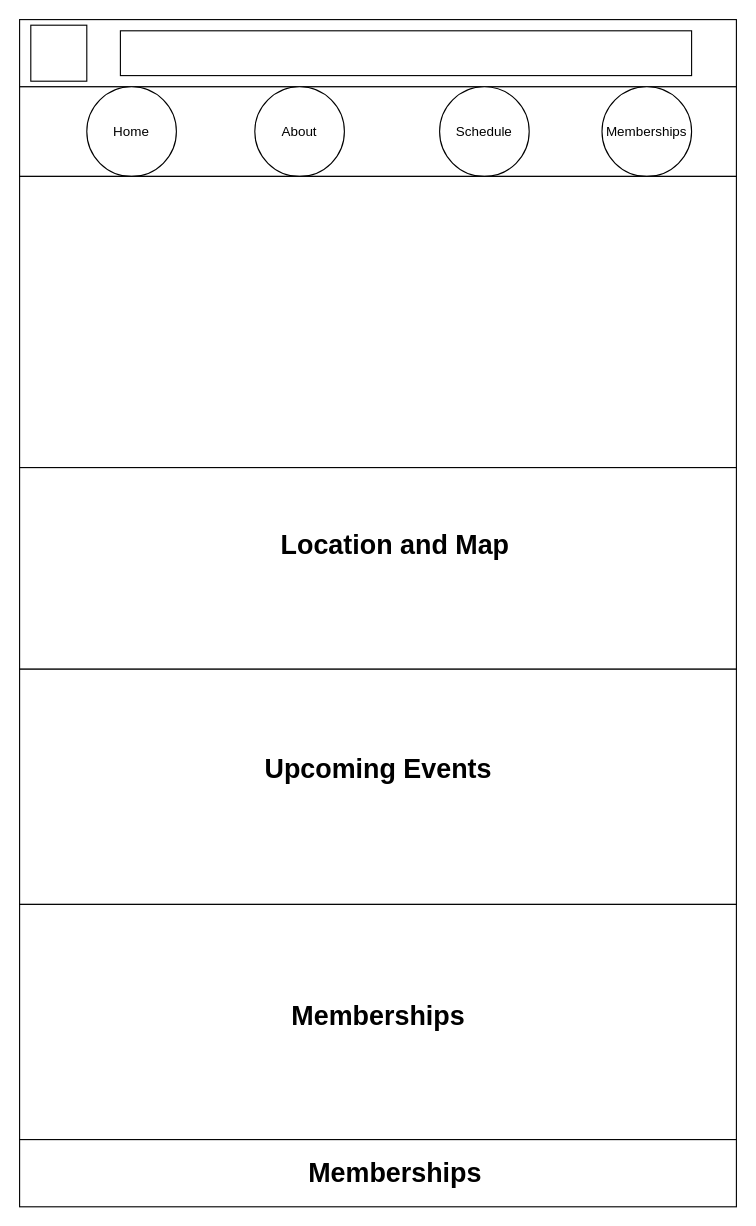
The diagram is 756 pixels wide and 1226 high, and some of its shapes have lost their labels. The box of each missing label's shape, as (x1, y1, x2, y2) in pixels:
Image: (18, 175, 736, 468)
Logo: (30, 24, 87, 81)
Title: (119, 30, 692, 76)
